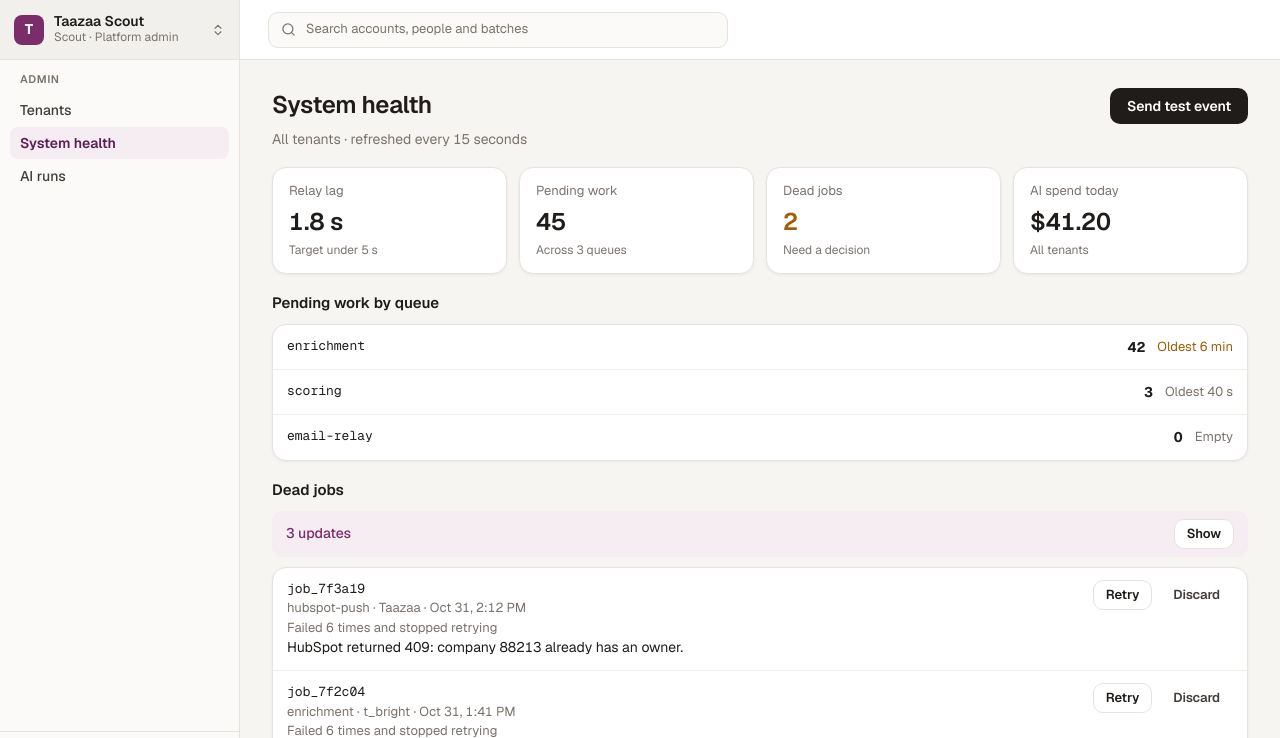
Test: dead jobs › keeps the rows in place when a refresh changes them, and applies them from the updates bar
expect the text "3 updates" is shown: met, box [286,524,351,542]
expect the button with aria-label "Retry job_7f3a19" is shown: met, box [1093,580,1152,610]
Click the button "Show" at (1204, 534), box [1174,518,1234,548]
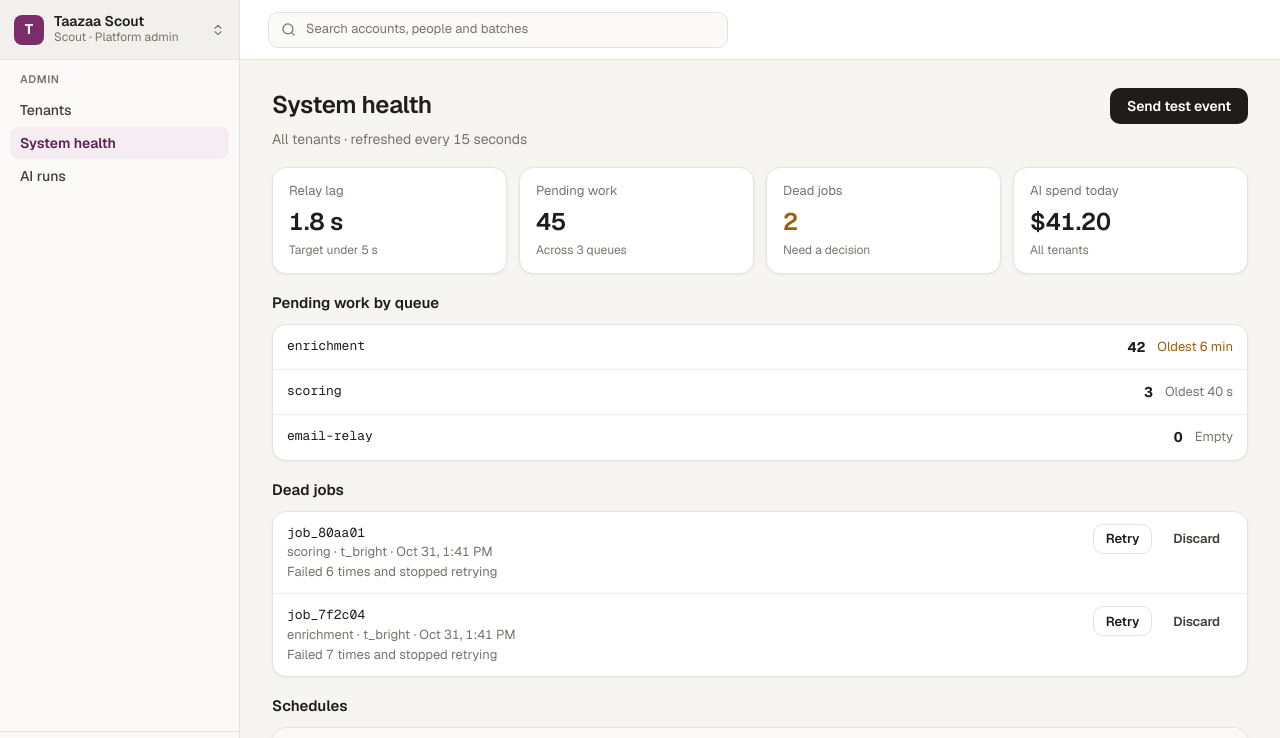
expect the button with aria-label "Retry job_80aa01" is shown: met, box [1093,524,1152,554]
expect the text "Failed 7 times and stopped retrying" is shown: met, box [287,646,497,663]
expect the text "updates?" is gone: met
